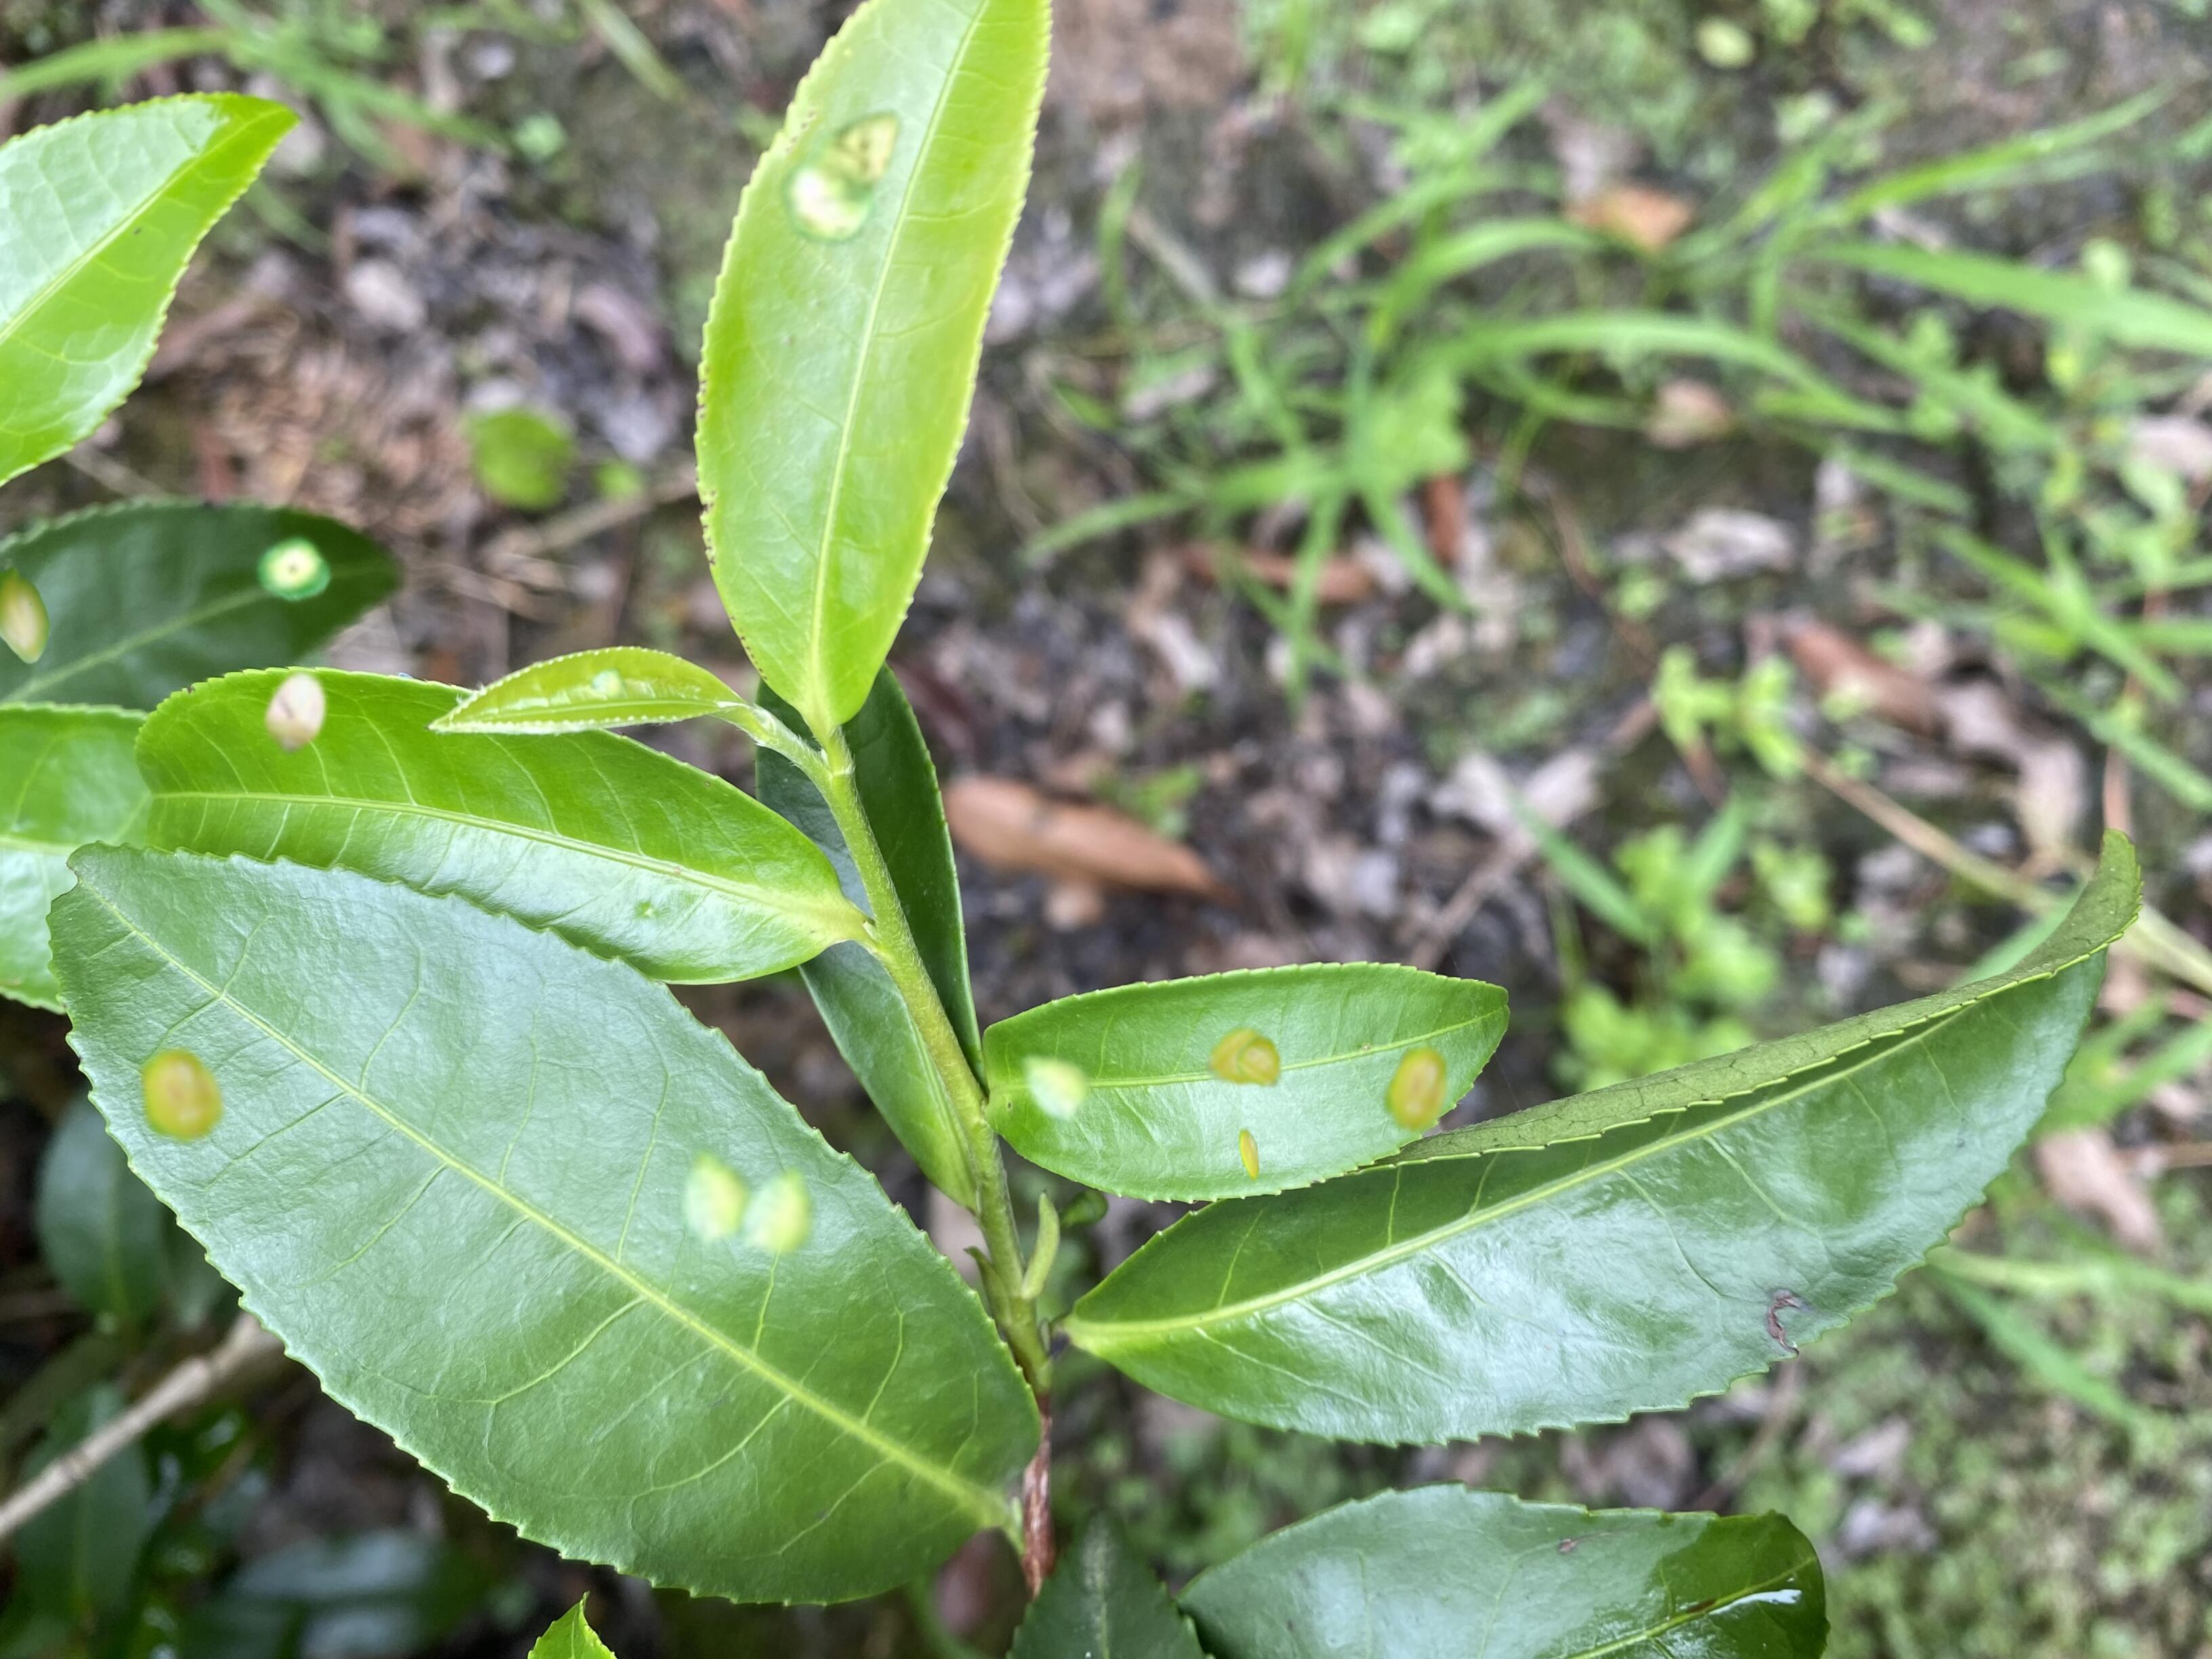chabing_high: (44, 838, 1042, 1610), (984, 964, 1510, 1204), (3, 500, 411, 706)
chabing_low: (129, 666, 846, 988)
healthy: (0, 92, 303, 491), (430, 643, 745, 741)
tanju_low: (1066, 828, 2144, 1452)
